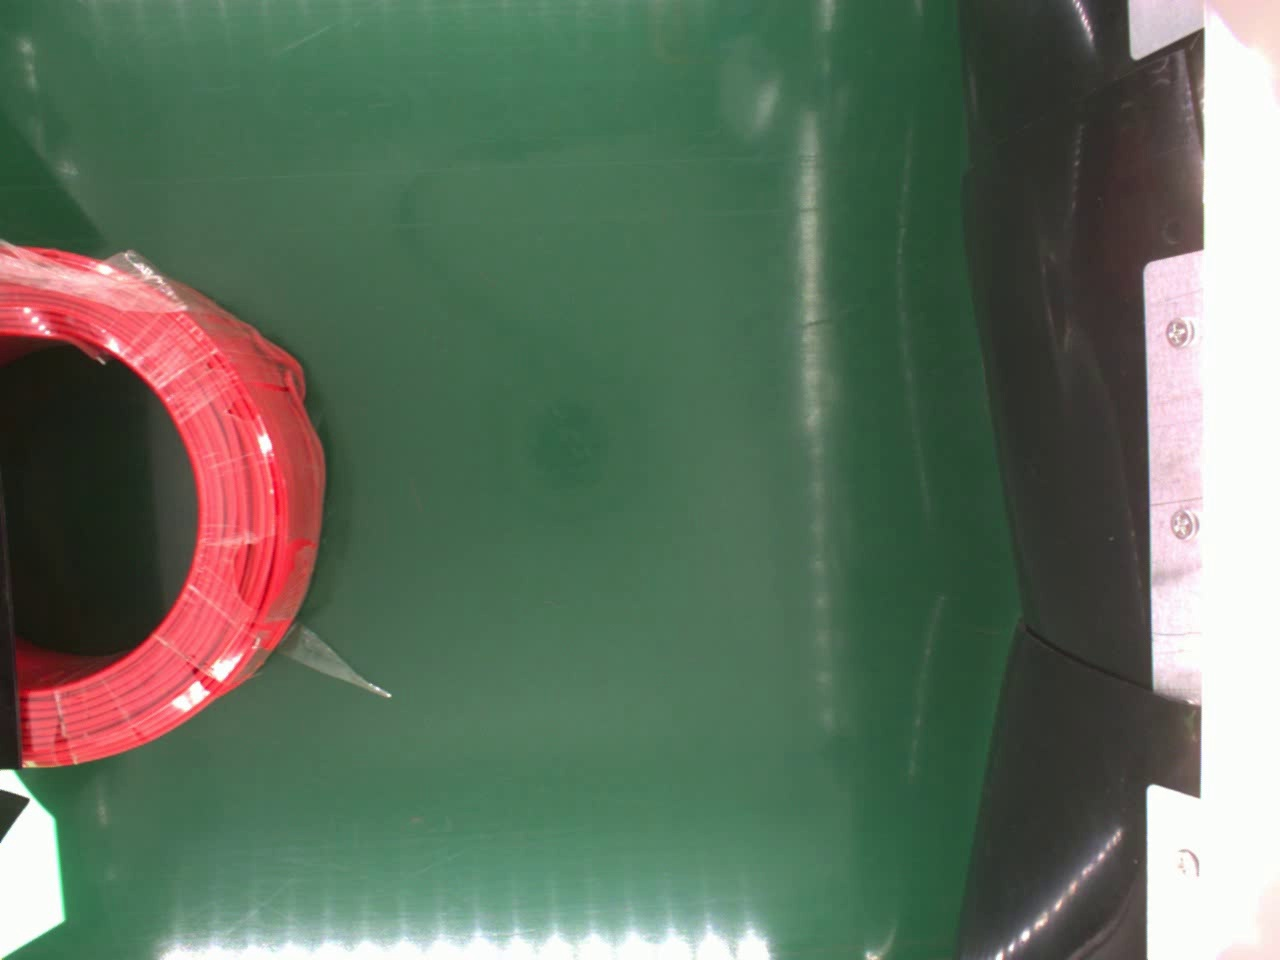red: (0, 240, 332, 772)
